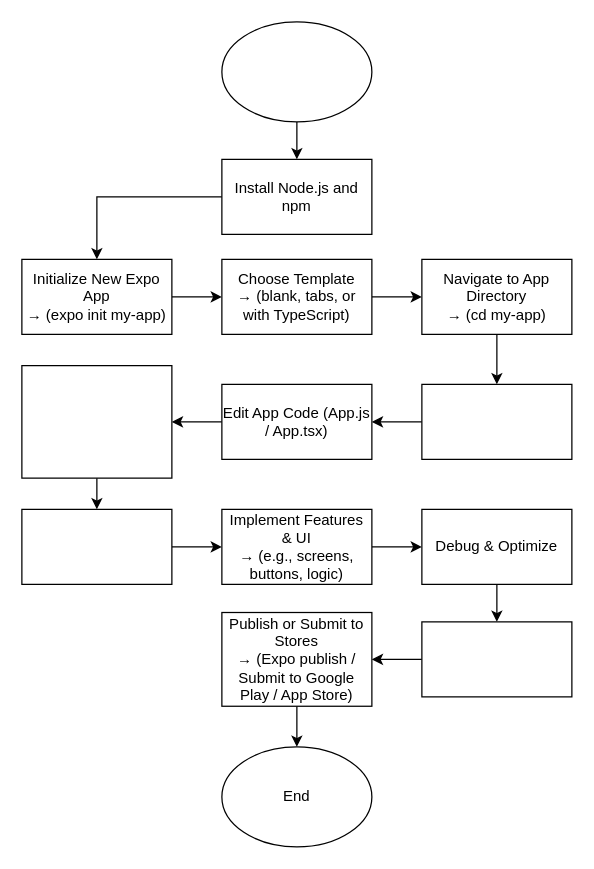
The diagram is 594 pixels wide and 869 high, and some of its shapes have lost their labels. Here are the shapes that lost their labels. From the top down, the centre of each, then its label:
the point at 296,71: START
the point at 96,421: Test on Device/Emulator → (Expo Go app or Android/iOS simulator)
the point at 496,421: Start Development Server → (npx expo start)
the point at 96,546: Install Dependencies as Needed → (e.g., navigation, camera, etc.)
the point at 496,659: Build App for Deployment → (npx expo build or eas build)
